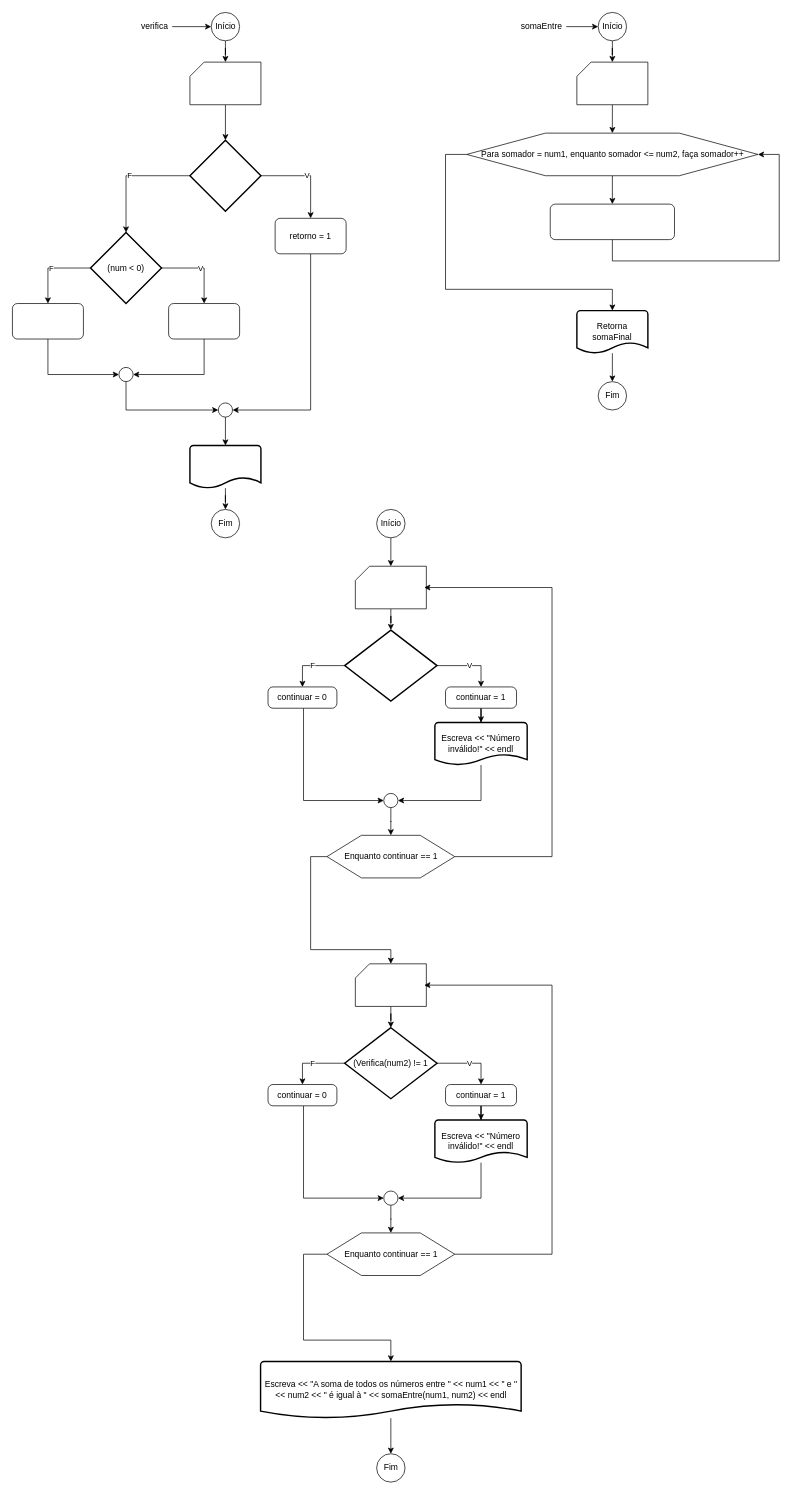
The diagram is 797 pixels wide and 1495 high, and some of its shapes have lost their labels. The centre of each missing label's shape, as x and y in pixels:
"(num > 0)" goes at pixel 225 175.
"(Verifica(num1) != 1" goes at pixel 390 665.
"num" goes at pixel 225 83.
"num1" goes at pixel 390 587.
"num1, num2" goes at pixel 612 83.
"num2" goes at pixel 390 984.
"Retorna retorno" goes at pixel 225 466.
"retorno = -1" goes at pixel 47 321.
"retorno = 0" goes at pixel 204 321.
"somaFinal += somador" goes at pixel 612 221.
